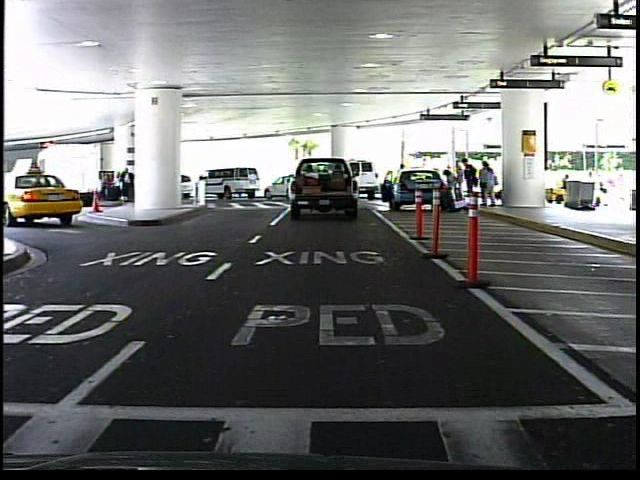person: (444, 167, 462, 217), (395, 161, 410, 202)
